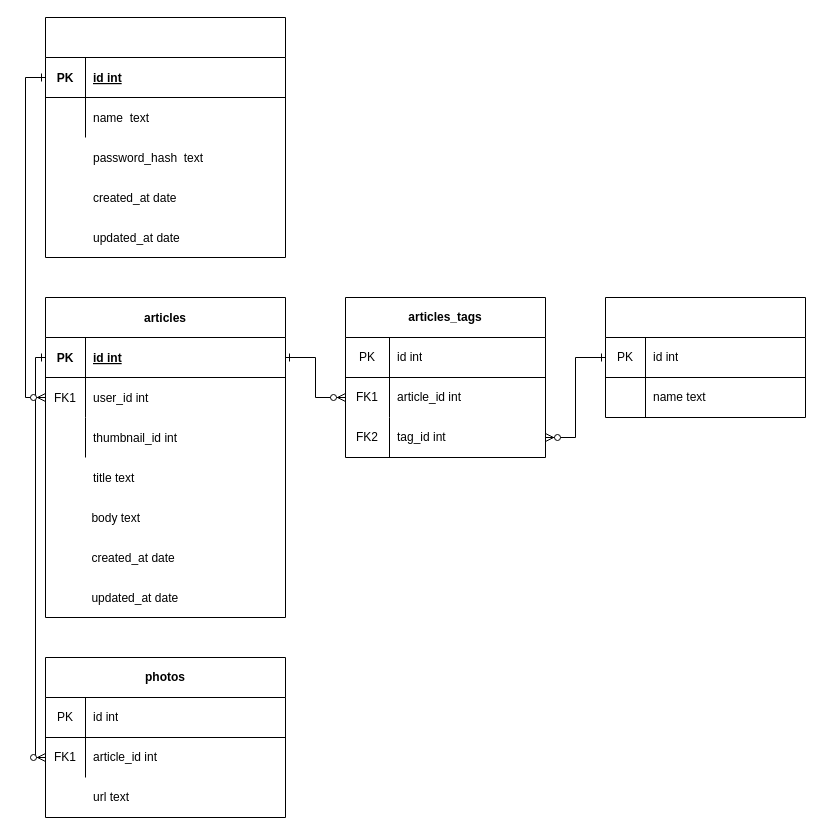
This 823x835 diagram has some shape labels left out. The shapes that lost their labels are listed below. From the top down, each one's box as (x1, y1, x2, y2) in pixels, then its label:
(44, 16, 286, 258): users
(604, 296, 806, 418): tags
